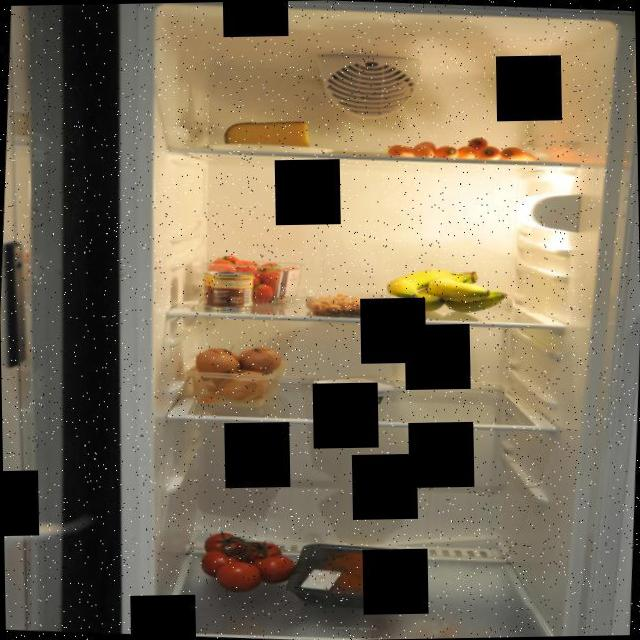Carne vacuno: (315, 550, 387, 598)
Cebolla: (191, 342, 280, 406)
Gambas/Langostinos: (304, 286, 398, 320)
Plátano: (382, 264, 507, 312)
Queso: (310, 376, 396, 420), (222, 114, 316, 154)
Tomate: (198, 528, 300, 596)
Zanahoria: (386, 129, 547, 168)
corn: (199, 270, 257, 314)
strawberries: (200, 253, 302, 307)
